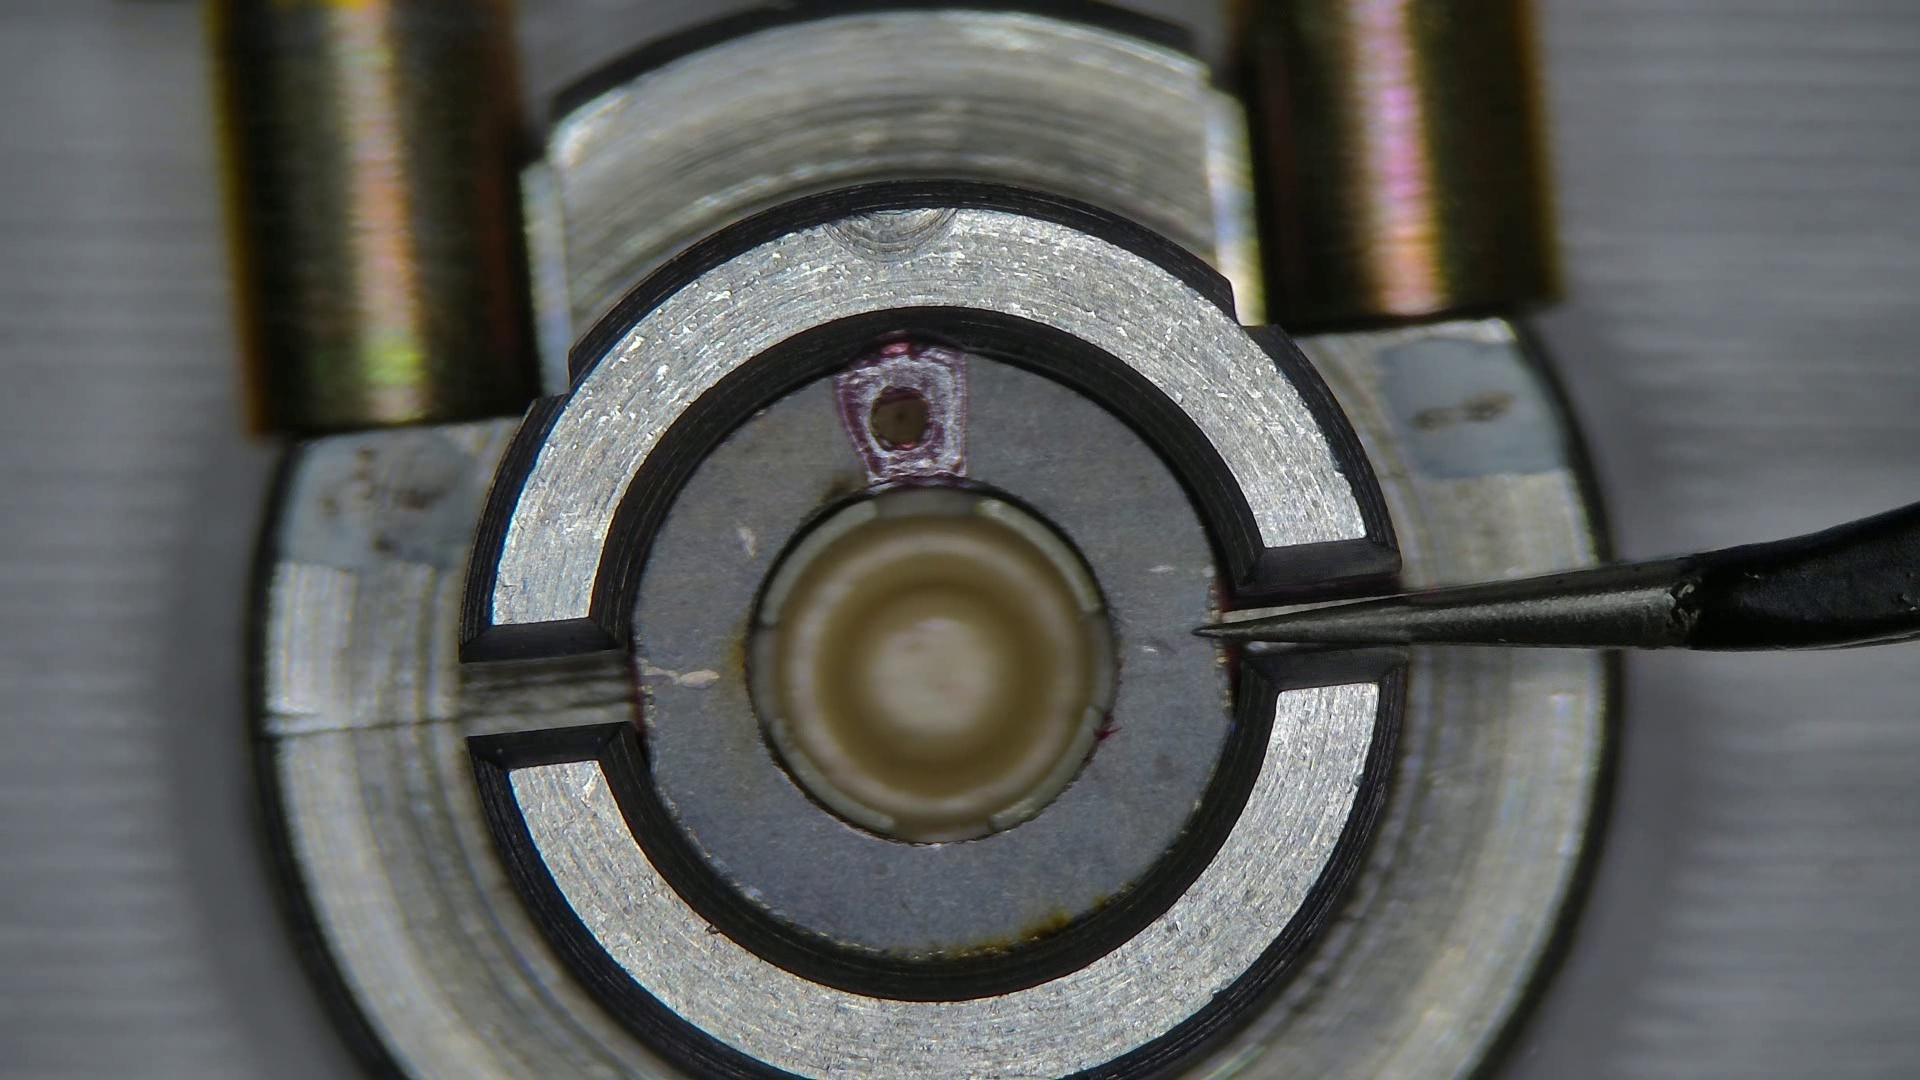YellowOring: (633, 345, 1226, 961)
